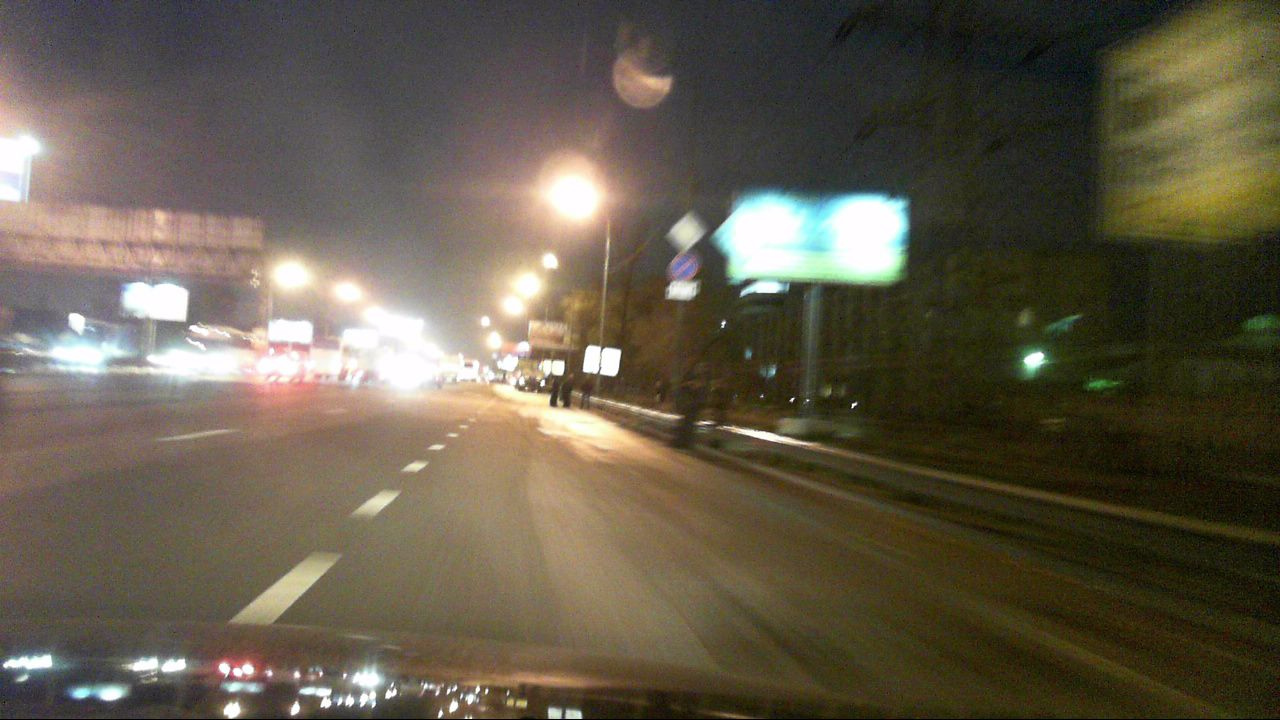No Parking: (668, 251, 699, 277)
